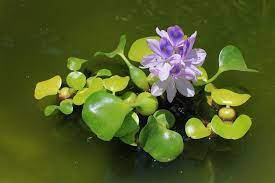water_hyacinth: (30, 19, 266, 159)
